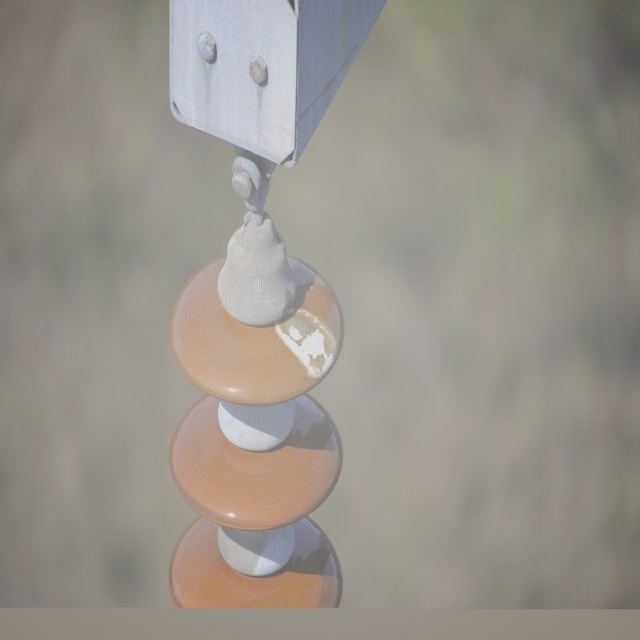insulator: (166, 249, 346, 611)
